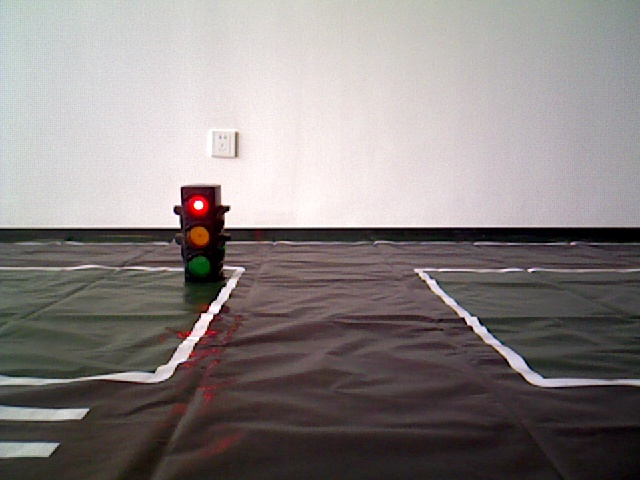red: (182, 186, 219, 280)
